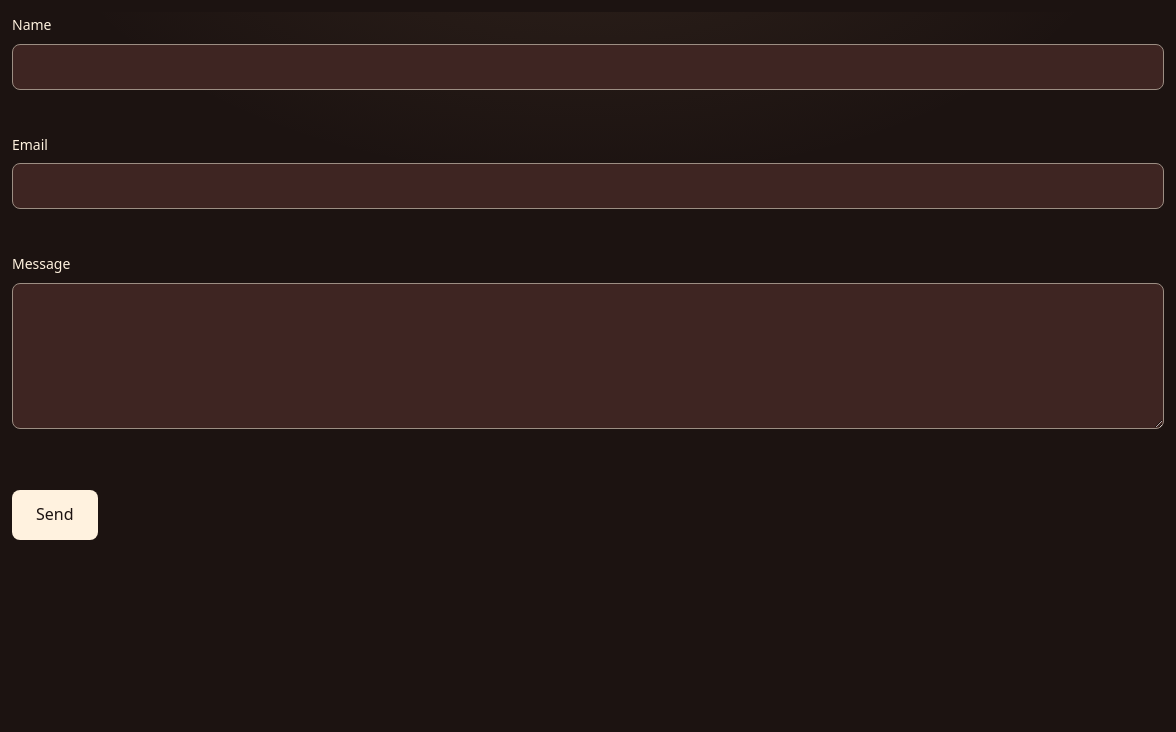
ContactForm › reports a rate limit differently from a failure
Type "Zeyad" into the field labelled "Name".
click(588, 67); type("Zeyad")  # box [12, 44, 1164, 90]
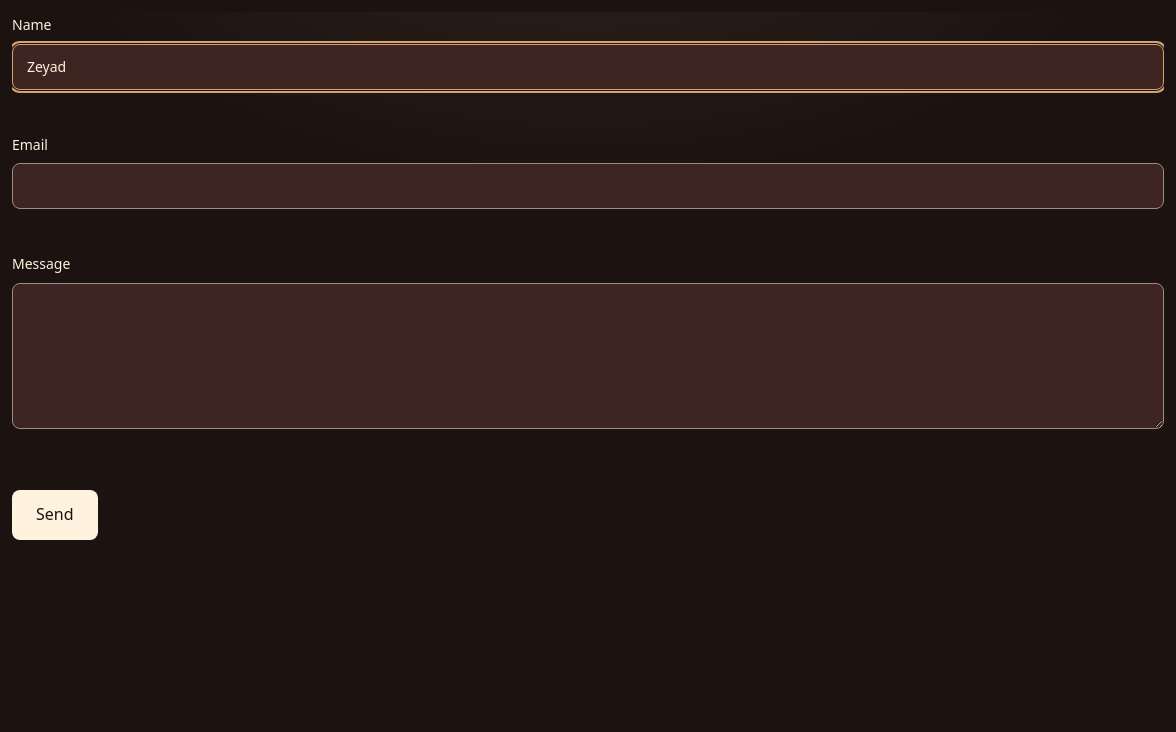
Type "a@b.co" into the field labelled "Email".
click(588, 186); type("a@b.co")  # box [12, 163, 1164, 209]
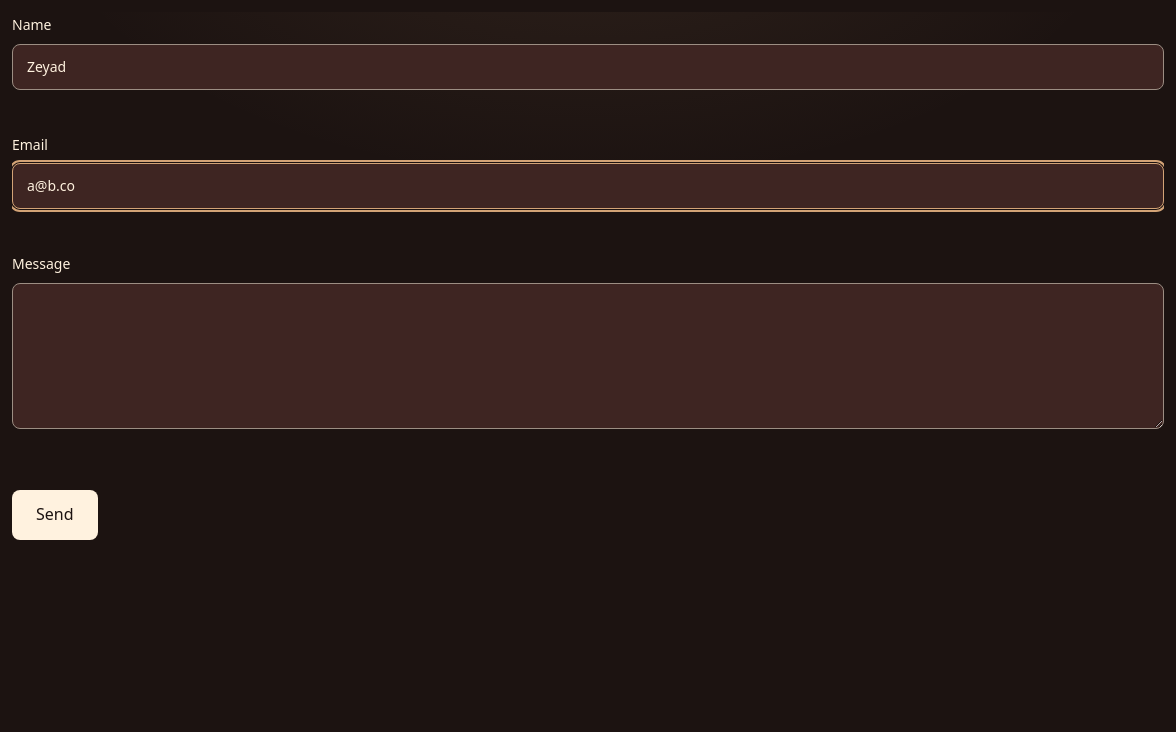
Type "Hello there" into the text box labelled "Message".
click(588, 356); type("Hello there")  # box [12, 283, 1164, 429]
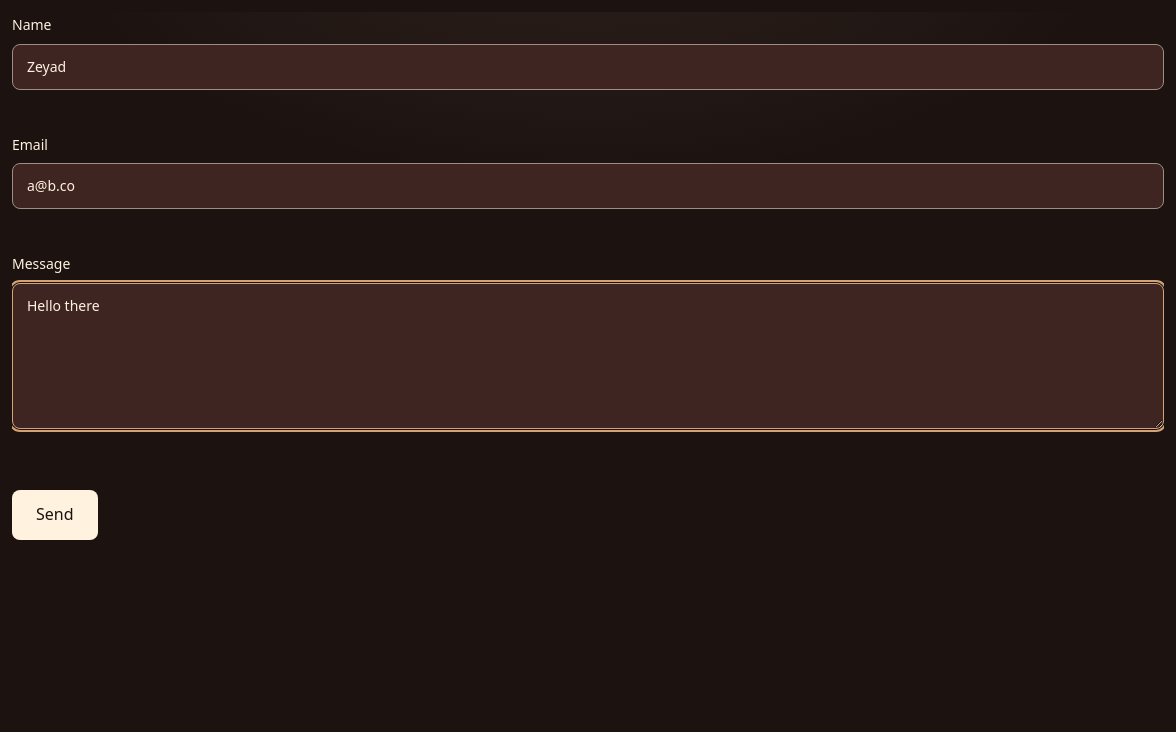
Click the button "Send".
click(55, 515)  # box [12, 490, 98, 540]
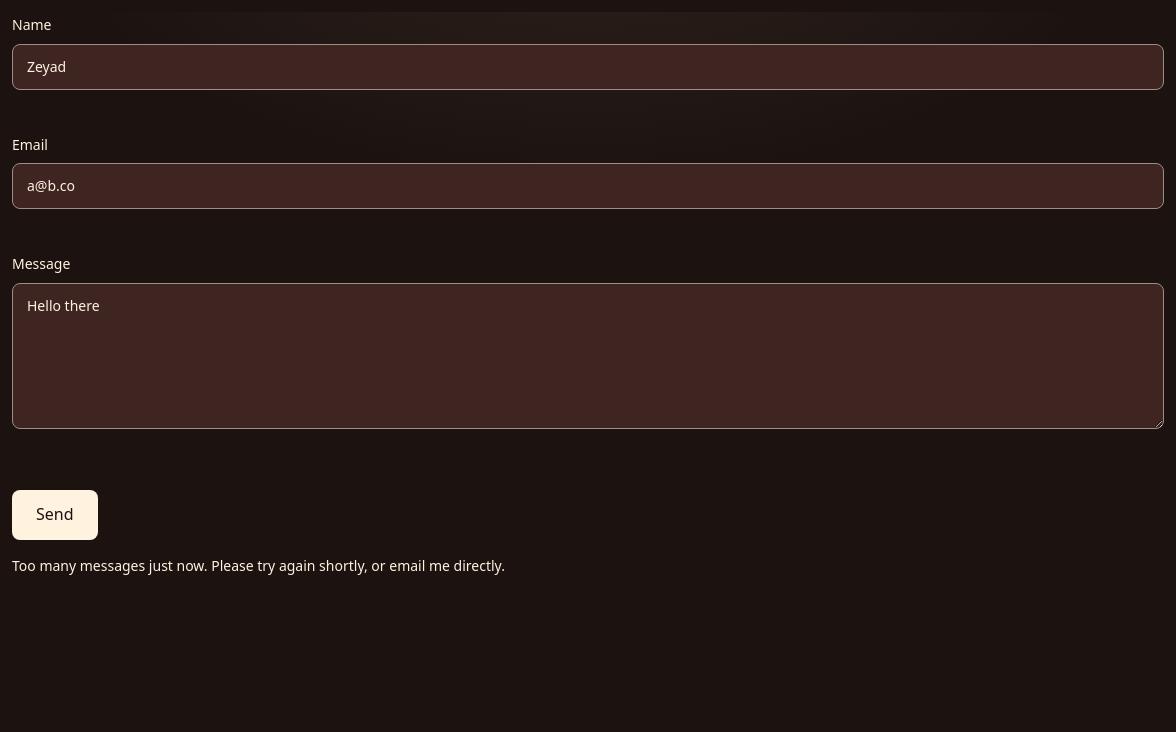
Expected: the message shows "Too many messages", [12, 556, 505, 575]
